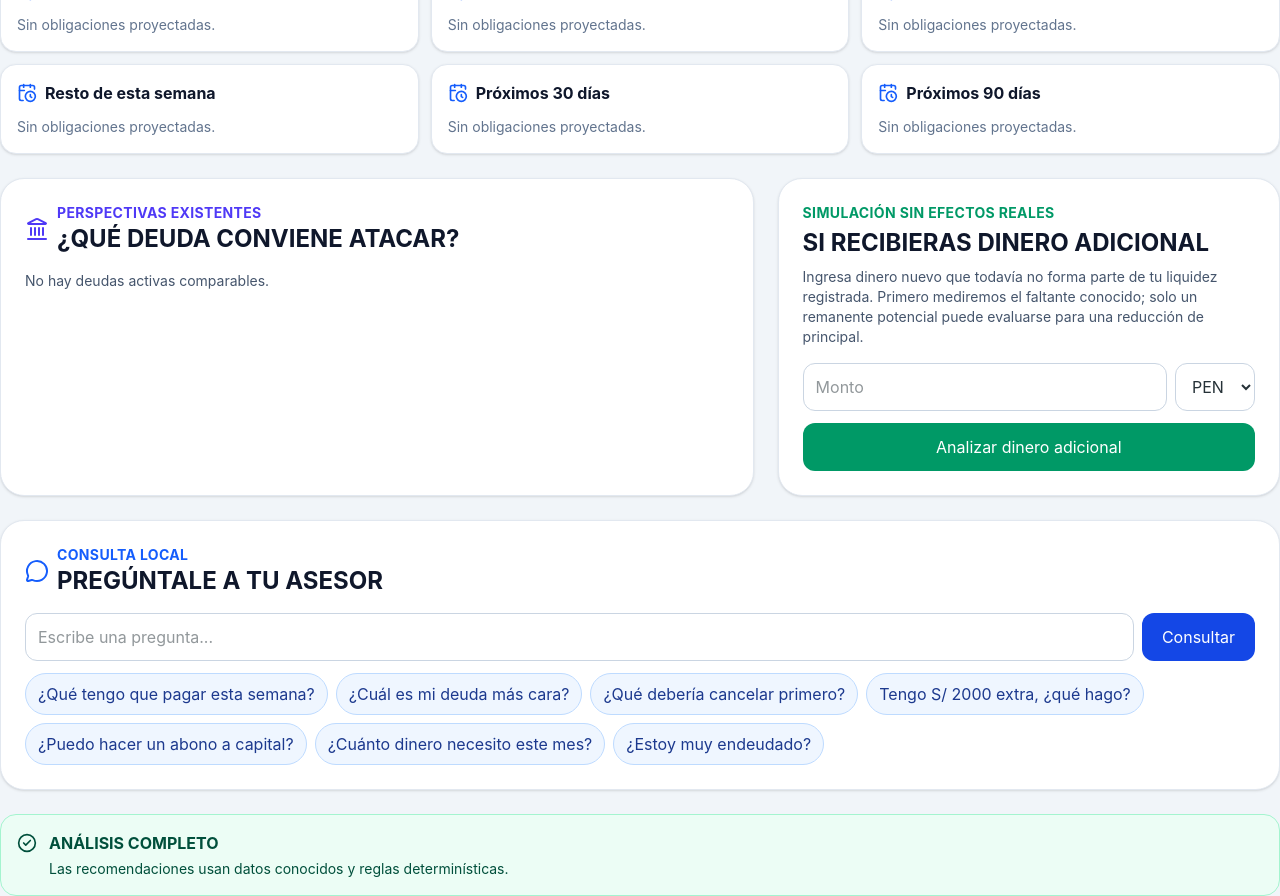
Test: FinancialAdvisorPanel › renders the read-only advisor sections and handles a local question
This screenshot has width=1280, height=896.
(page scrolled)
Expected: the heading "¿QUÉ DEUDA CONVIENE ATACAR?" is shown, [57,223,459,255]
Expected: the element with test id "advisor-extra-cash" is shown, [778,178,1279,496]
In the field with test id "advisor-question-input": (579, 637) [25,613,1134,661], type "¿Qué cambió desde la semana pasada?"
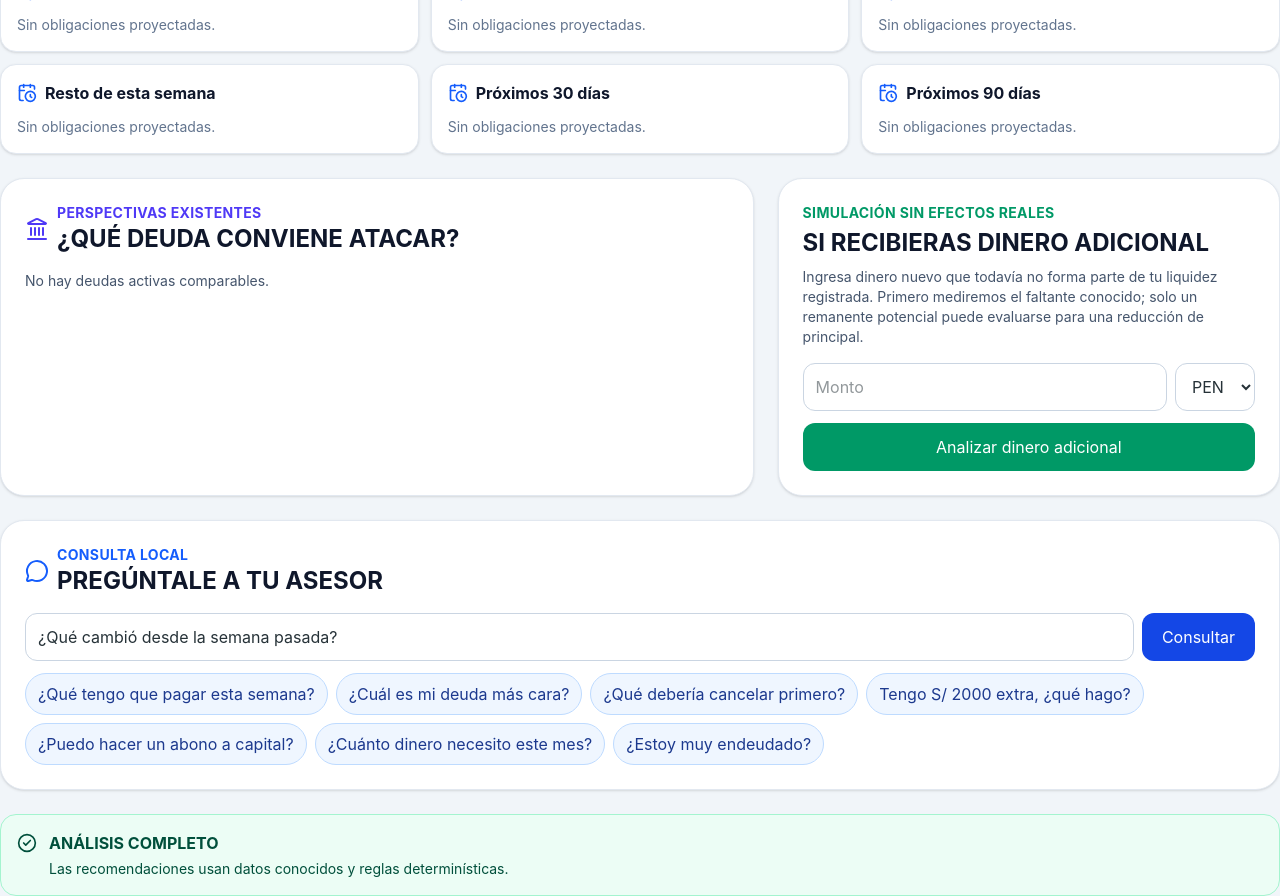
Click the button "Consultar": (1198, 637) [1142,613,1255,661]
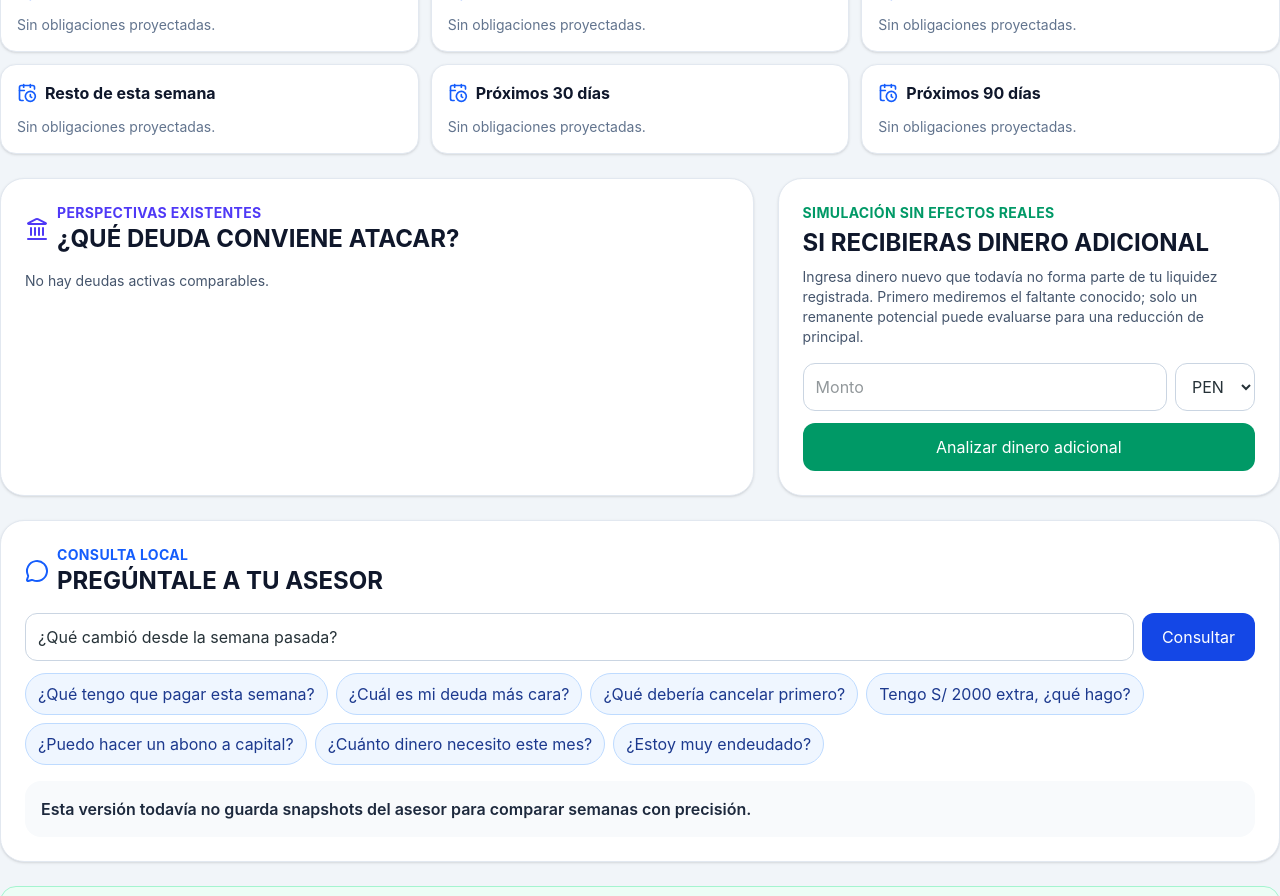
Result: the text "Esta versión todavía no guarda snapshots del asesor para comparar semanas con precisión." is shown at [41,799,751,819]
